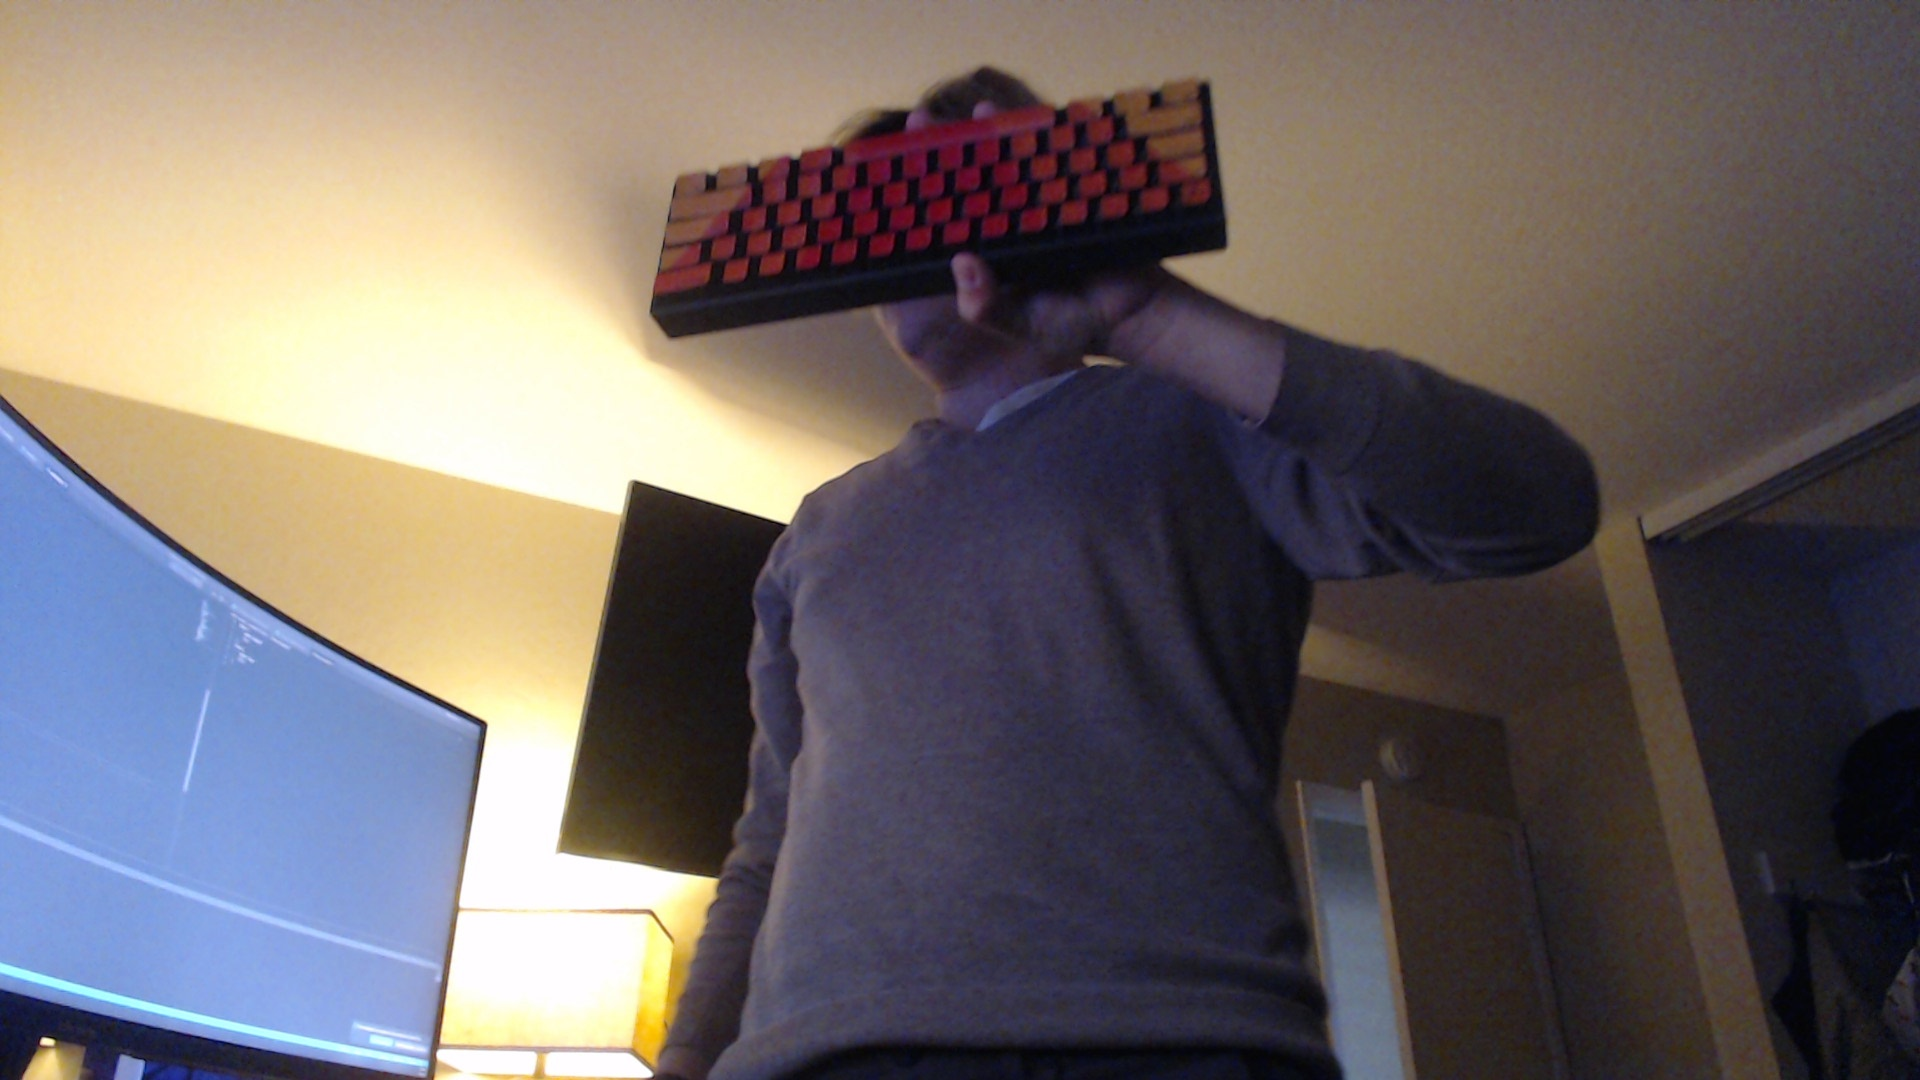keyboard: (647, 76, 1230, 345)
